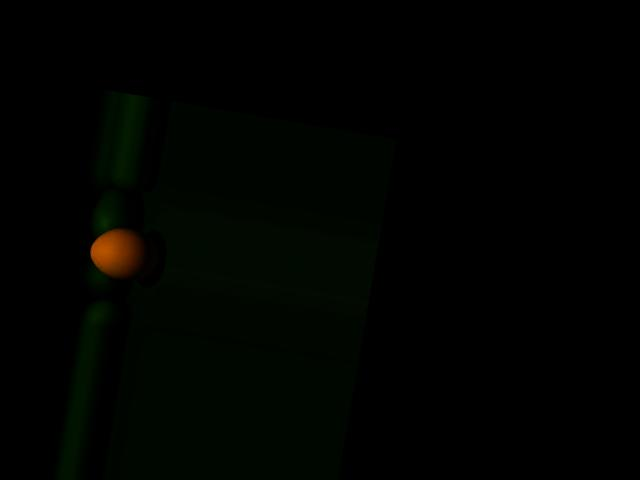egg: (86, 222, 163, 286)
